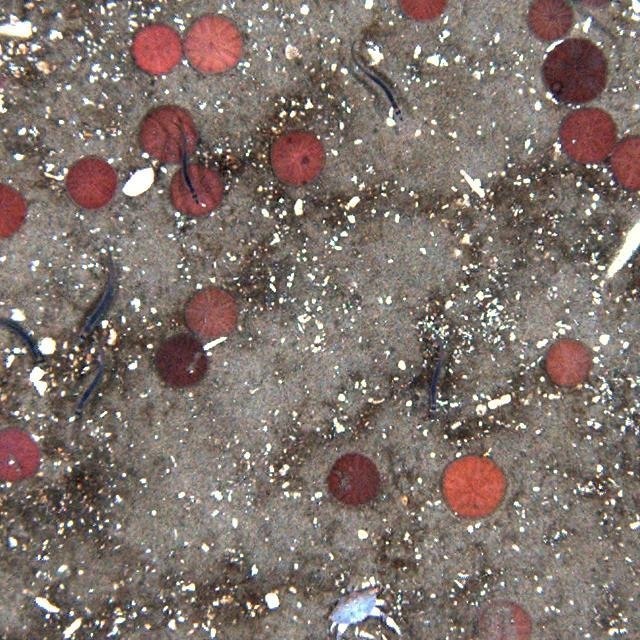roundfish: (351, 42, 408, 124), (172, 121, 206, 206)
